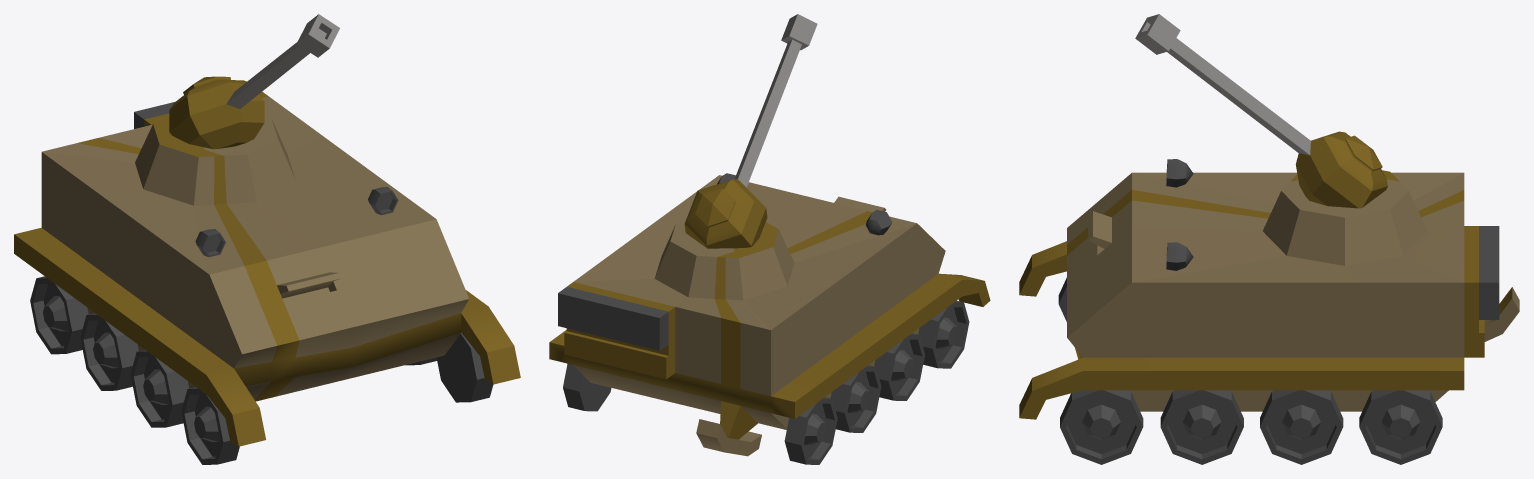
Rendered from Tanque.fbx.
3 renders of one model, left to right at view 1: azimuth 30°, elevation 25°; view 2: azimuth 150°, elevation 25°; view 3: azimuth 270°, elevation 25°, orthographic. The views are drawn at different scales.
Parts seen in each view (by area): view 1: polySurface9, pSphere2, polySurface16, polySurface17, polySurface15, polySurface14, polySurface7, pCylinder12, pCylinder13; view 2: polySurface9, pSphere2, polySurface17, polySurface14, polySurface15, polySurface16, polySurface13, pCylinder13; view 3: polySurface9, pSphere2, polySurface10, polySurface13, polySurface12, polySurface7, pCylinder12, pCylinder13.
Part boxes in pixels (left/top/right/bottom): polySurface9: left=14, top=91, right=520, bottom=446; pSphere2: left=169, top=14, right=339, bottom=149; polySurface16: left=130, top=350, right=189, bottom=427; polySurface17: left=30, top=276, right=88, bottom=354; polySurface15: left=80, top=313, right=138, bottom=390; polySurface14: left=181, top=387, right=239, bottom=464; polySurface7: left=436, top=333, right=493, bottom=402; pCylinder12: left=368, top=187, right=398, bottom=215; pCylinder13: left=195, top=229, right=225, bottom=257; polySurface9: left=549, top=175, right=990, bottom=456; pSphere2: left=684, top=14, right=817, bottom=248; polySurface17: left=784, top=397, right=837, bottom=464; polySurface14: left=918, top=300, right=969, bottom=368; polySurface15: left=830, top=365, right=881, bottom=432; polySurface16: left=874, top=333, right=924, bottom=400; polySurface13: left=563, top=363, right=611, bottom=411; pCylinder13: left=865, top=210, right=892, bottom=235; polySurface9: left=1019, top=170, right=1519, bottom=419; pSphere2: left=1135, top=14, right=1387, bottom=208; polySurface10: left=1160, top=390, right=1243, bottom=464; polySurface13: left=1359, top=390, right=1442, bottom=464; polySurface12: left=1260, top=390, right=1343, bottom=464; polySurface7: left=1060, top=390, right=1143, bottom=464; pCylinder12: left=1166, top=242, right=1193, bottom=270; pCylinder13: left=1166, top=159, right=1193, bottom=187.
Bounding box in the file's own units: 6.5 × 8.67 × 10.1.
